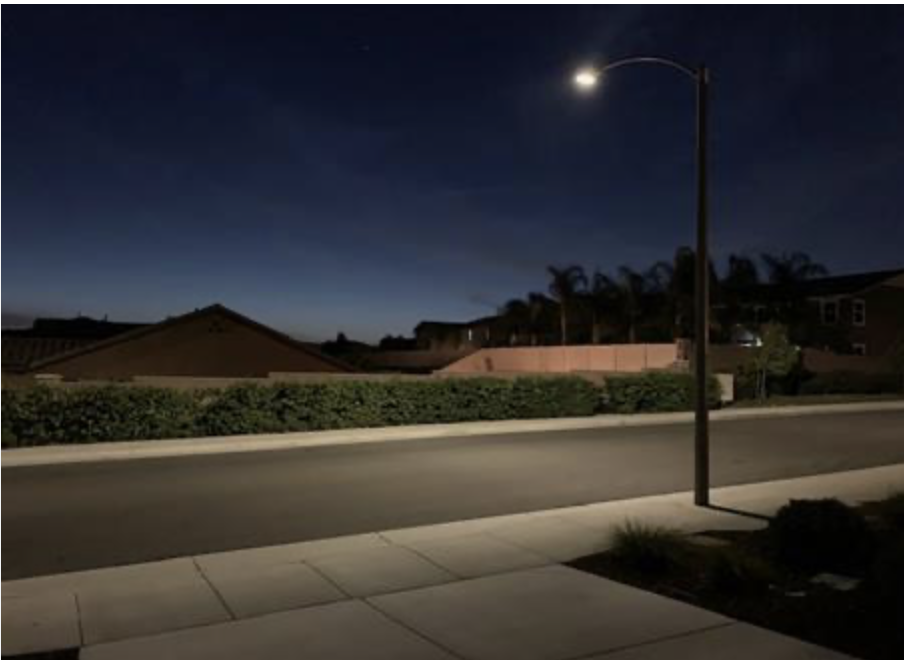LED: (557, 61, 625, 100)
